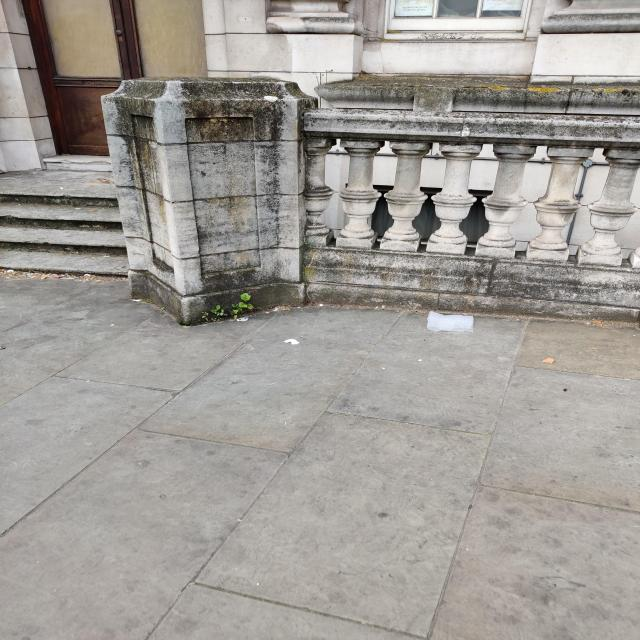litter: (428, 312, 473, 332)
